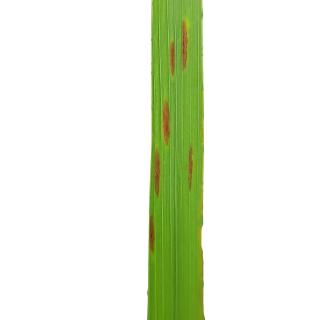Bercak-Cokelat-Sempit: (163, 17, 199, 78), (158, 95, 182, 147), (151, 149, 164, 201), (146, 213, 160, 253), (187, 142, 196, 194)
